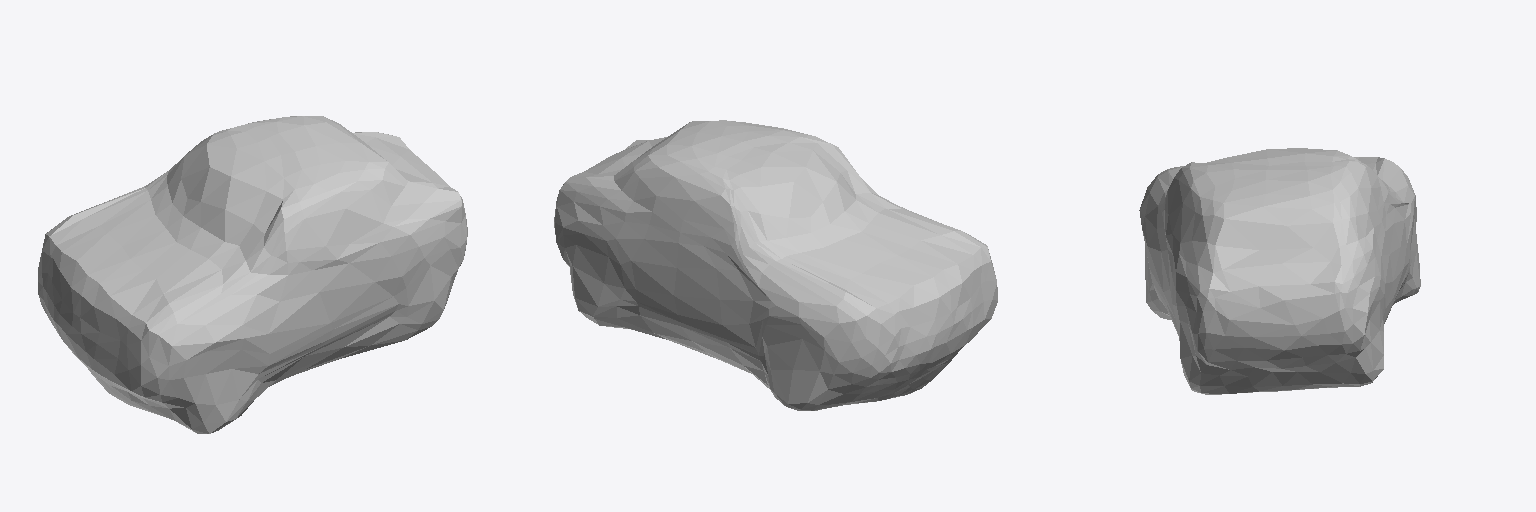
File: video3_402.obj
3 renders of one model, left to right at view 1: azimuth 30°, elevation 25°; view 2: azimuth 150°, elevation 25°; view 3: azimuth 270°, elevation 25°, orthographic.
Size of the model in its own units: 1 by 0.5427 by 0.6587.